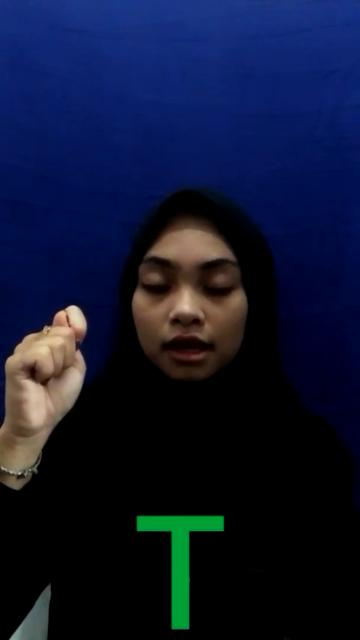T: (0, 301, 92, 439)
